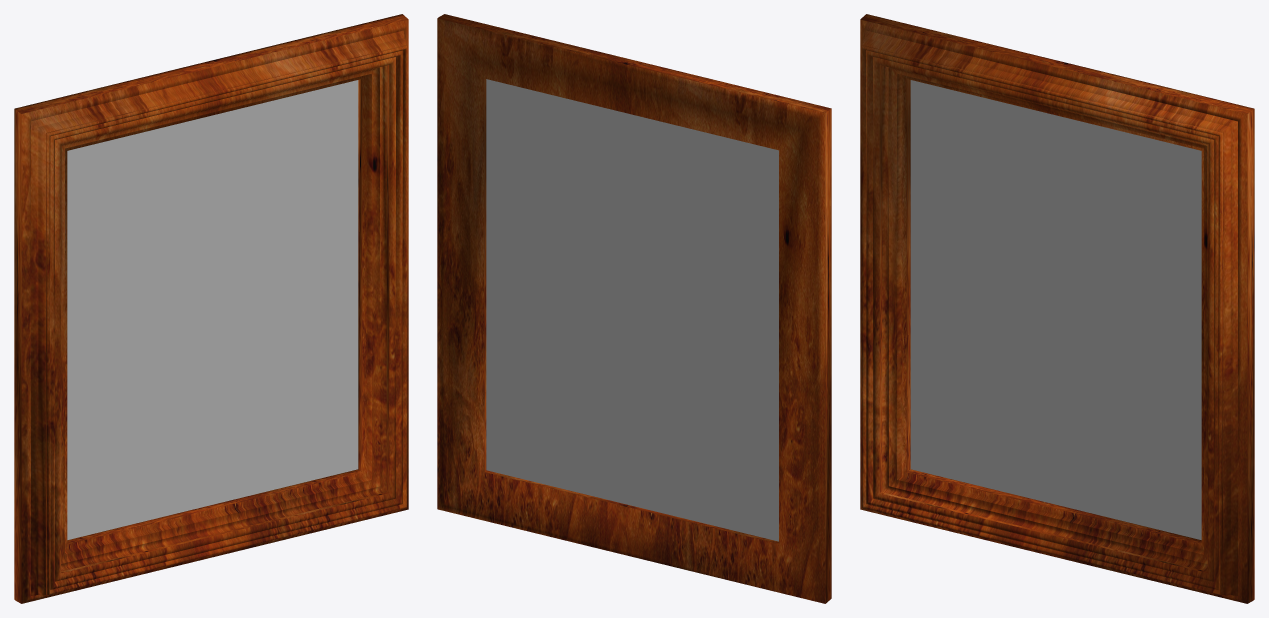
The model's file is frame.FBX.
The picture shows the model from 3 angles, left to right: view 1: azimuth 30°, elevation 25°; view 2: azimuth 150°, elevation 25°; view 3: azimuth 330°, elevation 25°; orthographic projection.
Parts seen in each view (by area): view 1: painting, frame; view 2: painting, frame; view 3: painting, frame.
Boxes of the visible parts, bbox=[...] form: painting: bbox=[67, 80, 358, 539]; frame: bbox=[14, 14, 408, 603]; painting: bbox=[486, 79, 778, 541]; frame: bbox=[437, 14, 831, 603]; painting: bbox=[910, 80, 1201, 539]; frame: bbox=[860, 14, 1254, 603].
Bounding box in the file's own units: 167 × 201 × 14.65.
